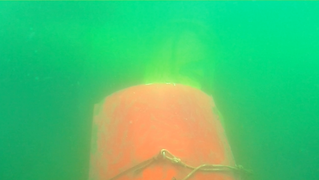4: (186, 53, 213, 97)
leak: (89, 83, 241, 180)
pipe: (1, 17, 153, 80), (142, 13, 214, 97)
